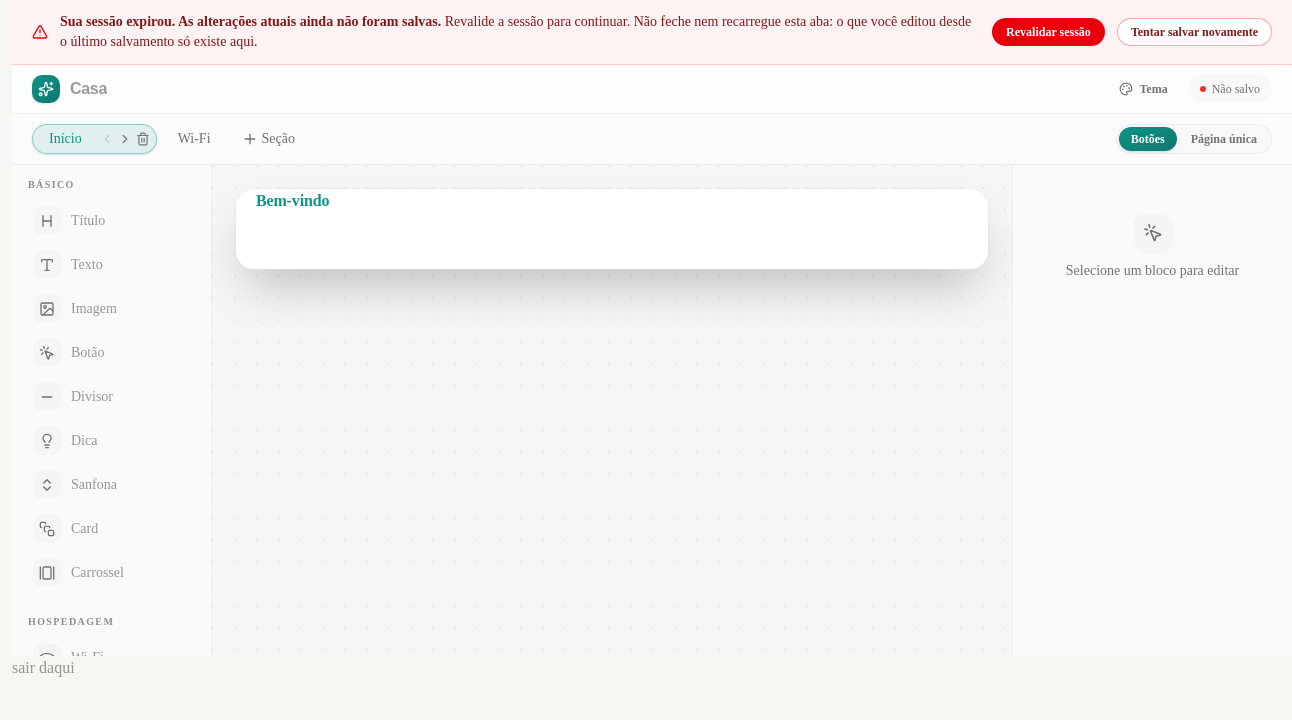
Test case: Builder session revalidation popup › explains how to proceed when the popup is blocked
This screenshot has width=1292, height=720.
Click the button "Revalidar sessão": (1048, 32) [992,18,1105,46]
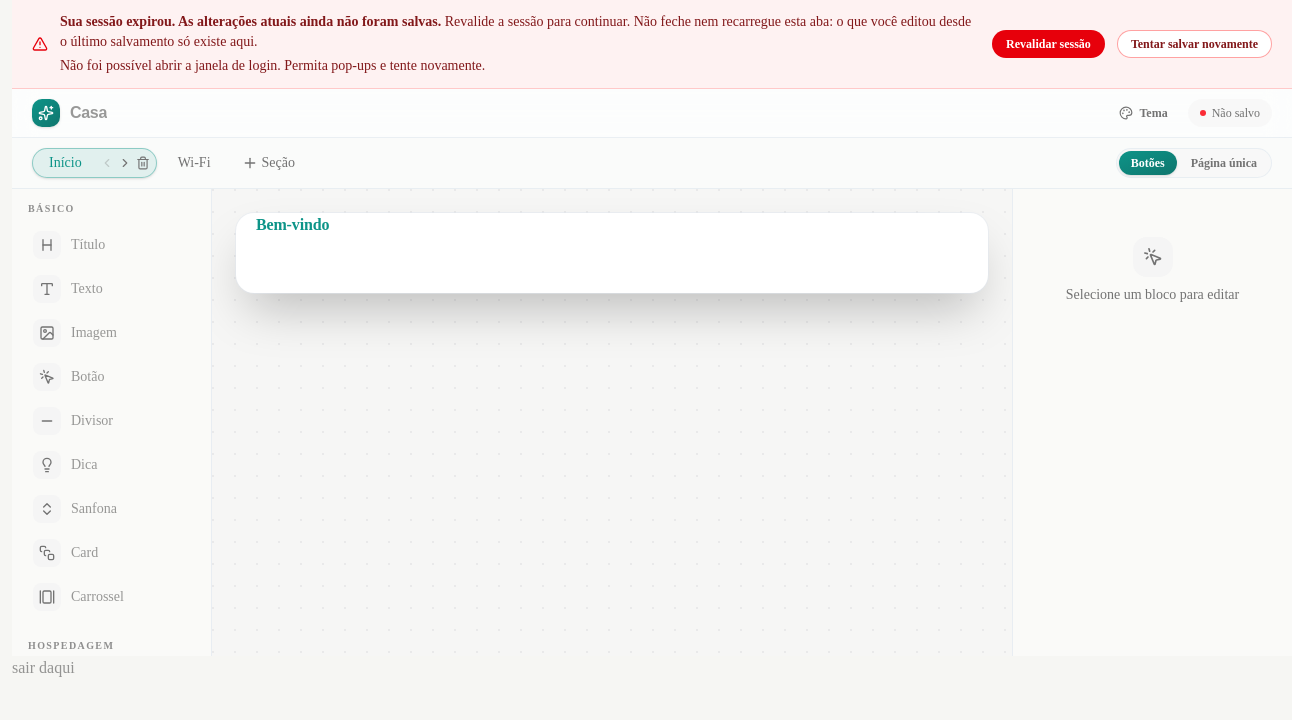
expect the message shows "Permita pop-ups e tente novamente": met, box [60,58,485,73]
